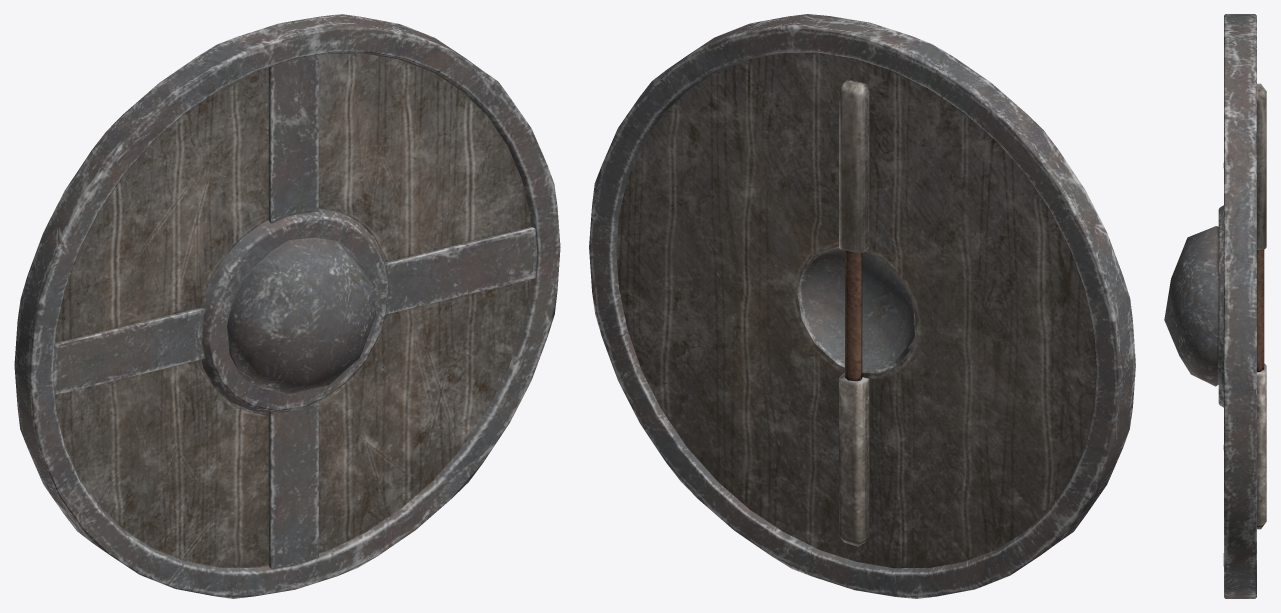
File: SM_Shield_01.fbx
3 renders of one model, left to right at view 1: azimuth 30°, elevation 25°; view 2: azimuth 150°, elevation 25°; view 3: azimuth 270°, elevation 25°, orthographic. The views are drawn at different scales.
Visible parts, largest first — view 1: SM_Shield_01_LOD0; view 2: SM_Shield_01_LOD0; view 3: SM_Shield_01_LOD0.
Boxes of the visible parts, x1,y1,x2,y2 form: SM_Shield_01_LOD0: [14, 14, 560, 598]; SM_Shield_01_LOD0: [589, 14, 1135, 598]; SM_Shield_01_LOD0: [1164, 14, 1266, 598].
Bounding box in the file's own units: 78.23 × 13.68 × 78.24.
1 material, 1 textured.
